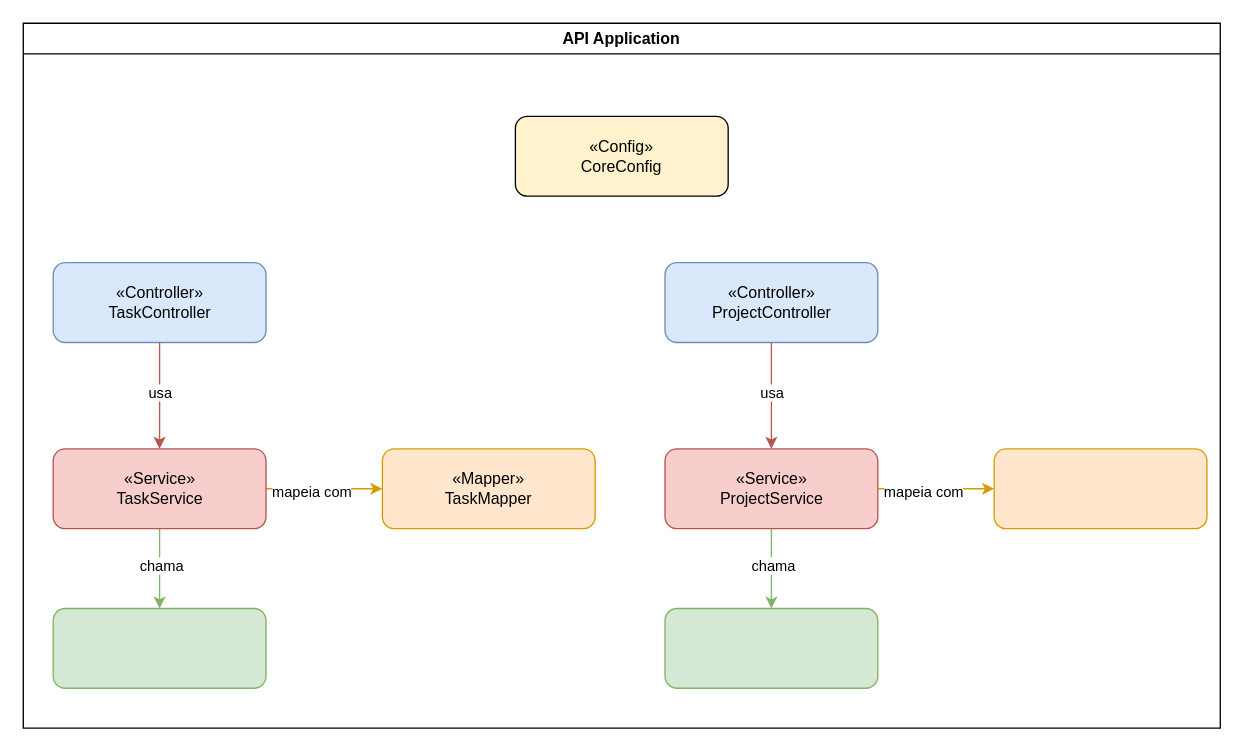
The diagram is 1244 pixels wide and 751 high, and some of its shapes have lost their labels. Each missing label, with the centre of its shape:
«Mapper» ProjectMapper: the point at 1100,488
«Repository» ProjectRepository: the point at 771,647
«Repository» TaskRepository: the point at 159,647
